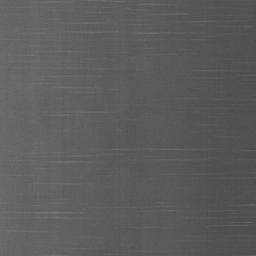Waist folding: (19, 146, 204, 186), (46, 0, 217, 38), (0, 210, 81, 233), (57, 110, 106, 118), (226, 24, 256, 29), (224, 176, 256, 180), (193, 69, 220, 73), (240, 202, 256, 208), (59, 85, 76, 90), (49, 251, 66, 256)
